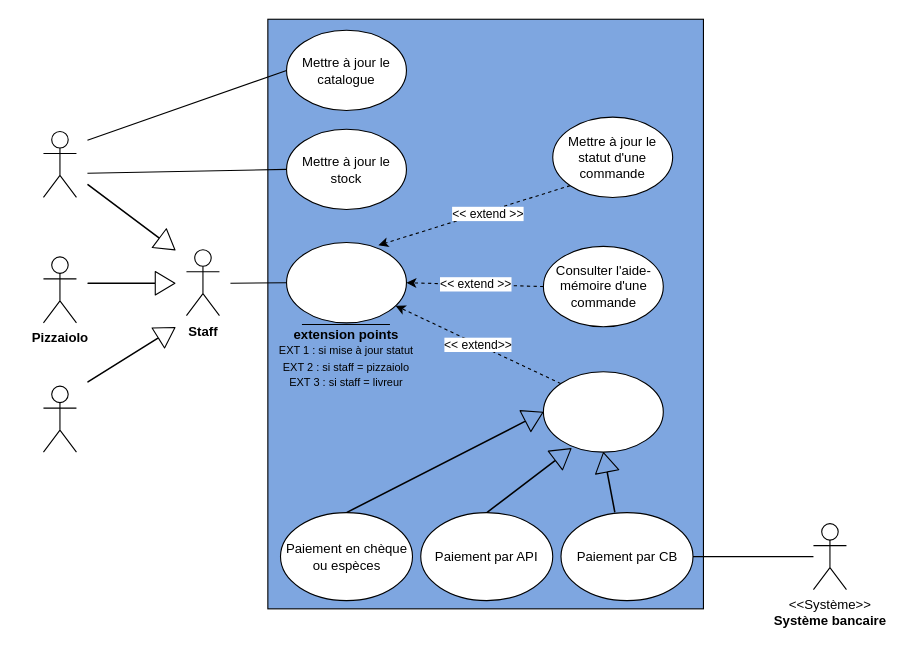
The diagram is 905 pixels wide and 663 high, and some of its shapes have lost their labels. The shapes that lost their labels are listed below. From the top down, each one's box as (x1, y1, x2, y2) in pixels, then its label:
(42, 130, 76, 197): Responsable
(285, 241, 406, 323): Consulter les commandes en cours
(267, 18, 703, 609): System
(42, 385, 76, 452): Livreur
(542, 371, 663, 452): Encaisser le paiement
